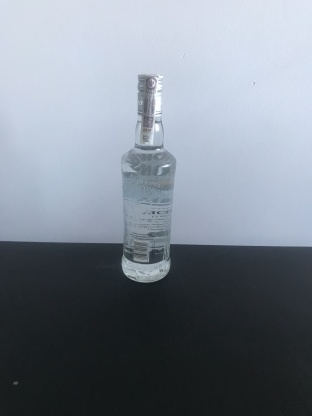nakretka: (134, 71, 166, 118)
